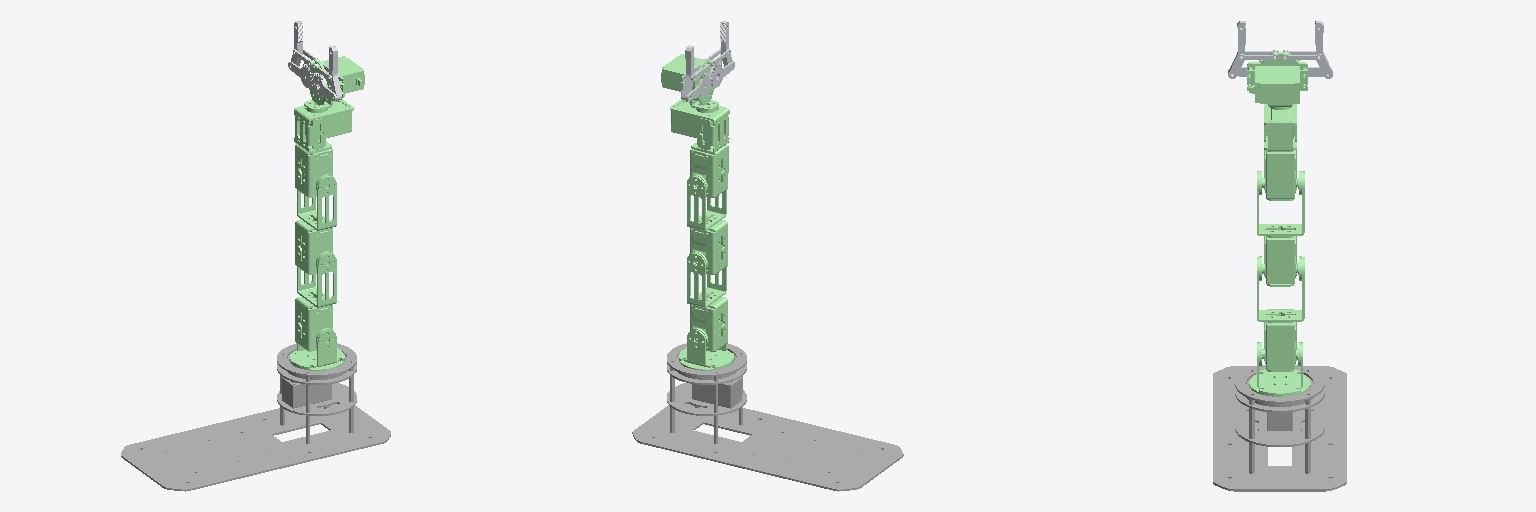
URDF robot description (Dofbot_Arm):
<?xml version="1.0" encoding="utf-8"?>
<!-- This URDF was automatically created by SolidWorks to URDF Exporter! Originally created by [author] ([email redacted]) 
     Commit Version: 1.6.0-1-g15f4949  Build Version: 1.6.7594.29634
     For more information, please see http://wiki.ros.org/sw_urdf_exporter -->
<robot
  name="Dofbot_Arm">
  <link
    name="base_link">
    <inertial>
      <origin
        xyz="0.03495 -1.669E-06 0.026249"
        rpy="0 0 0" />
      <mass
        value="0.30824" />
      <inertia
        ixx="0.00024694"
        ixy="-2.4709E-10"
        ixz="2.446E-09"
        iyy="0.00093961"
        iyz="-1.1178E-09"
        izz="0.0011789" />
    </inertial>
    <visual>
      <origin
        xyz="0 0 0"
        rpy="0 0 0" />
      <geometry>
        <mesh
          filename="package://Dofbot_Arm/meshes/base_link.STL" />
      </geometry>
      <material
        name="">
        <color
          rgba="0.75294 0.75294 0.75294 1" />
      </material>
    </visual>
    <collision>
      <origin
        xyz="0 0 0"
        rpy="0 0 0" />
      <geometry>
        <mesh
          filename="package://Dofbot_Arm/meshes/base_link.STL" />
      </geometry>
    </collision>
  </link>
  <link
    name="waist_link">
    <inertial>
      <origin
        xyz="4.0766E-08 -9.5693E-05 0.079382"
        rpy="0 0 0" />
      <mass
        value="0.051689" />
      <inertia
        ixx="1.1117E-05"
        ixy="-1.7636E-21"
        ixz="2.599E-21"
        iyy="9.658E-06"
        iyz="-1.3982E-20"
        izz="1.6341E-05" />
    </inertial>
    <visual>
      <origin
        xyz="0 0 0"
        rpy="0 0 0" />
      <geometry>
        <mesh
          filename="package://Dofbot_Arm/meshes/waist_link.STL" />
      </geometry>
      <material
        name="">
        <color
          rgba="0.75294 1 0.75294 1" />
      </material>
    </visual>
    <collision>
      <origin
        xyz="0 0 0"
        rpy="0 0 0" />
      <geometry>
        <mesh
          filename="package://Dofbot_Arm/meshes/waist_link.STL" />
      </geometry>
    </collision>
  </link>
  <joint
    name="base_waist_joint"
    type="revolute">
    <origin
      xyz="0.07217 0 0"
      rpy="0 0 0" />
    <parent
      link="base_link" />
    <child
      link="waist_link" />
    <axis
      xyz="0 0 1" />
    <limit
      lower="-2.618"
      upper="2.618"
      effort="1.5"
      velocity="3.1416" />
  </joint>
  <link
    name="shoulder_link">
    <inertial>
      <origin
        xyz="-0.0026577 -0.0001513 0.036757"
        rpy="0 0 0" />
      <mass
        value="0.039014" />
      <inertia
        ixx="1.684E-05"
        ixy="1.1195E-09"
        ixz="1.3557E-10"
        iyy="1.3033E-05"
        iyz="2.4457E-09"
        izz="7.6638E-06" />
    </inertial>
    <visual>
      <origin
        xyz="0 0 0"
        rpy="0 0 0" />
      <geometry>
        <mesh
          filename="package://Dofbot_Arm/meshes/shoulder_link.STL" />
      </geometry>
      <material
        name="">
        <color
          rgba="0.75294 1 0.75294 1" />
      </material>
    </visual>
    <collision>
      <origin
        xyz="0 0 0"
        rpy="0 0 0" />
      <geometry>
        <mesh
          filename="package://Dofbot_Arm/meshes/shoulder_link.STL" />
      </geometry>
    </collision>
  </link>
  <joint
    name="waist_shoulder_joint"
    type="revolute">
    <origin
      xyz="-0.0017793 0.00049752 0.10498"
      rpy="0 0 0" />
    <parent
      link="waist_link" />
    <child
      link="shoulder_link" />
    <axis
      xyz="0 1 0" />
    <limit
      lower="-2.618"
      upper="2.618"
      effort="1.5"
      velocity="3.1416" />
  </joint>
  <link
    name="arm_link">
    <inertial>
      <origin
        xyz="-0.0029633 -0.0001513 0.036757"
        rpy="0 0 0" />
      <mass
        value="0.039014" />
      <inertia
        ixx="1.684E-05"
        ixy="1.1195E-09"
        ixz="1.3557E-10"
        iyy="1.3033E-05"
        iyz="2.4457E-09"
        izz="7.6638E-06" />
    </inertial>
    <visual>
      <origin
        xyz="0 0 0"
        rpy="0 0 0" />
      <geometry>
        <mesh
          filename="package://Dofbot_Arm/meshes/arm_link.STL" />
      </geometry>
      <material
        name="">
        <color
          rgba="0.75294 1 0.75294 1" />
      </material>
    </visual>
    <collision>
      <origin
        xyz="0 0 0"
        rpy="0 0 0" />
      <geometry>
        <mesh
          filename="package://Dofbot_Arm/meshes/arm_link.STL" />
      </geometry>
    </collision>
  </link>
  <joint
    name="shoulder_arm_joint"
    type="revolute">
    <origin
      xyz="0.00030564 0 0.084119"
      rpy="0 0 0" />
    <parent
      link="shoulder_link" />
    <child
      link="arm_link" />
    <axis
      xyz="0 1 0" />
    <limit
      lower="-2.618"
      upper="2.618"
      effort="1.5"
      velocity="3.1416" />
  </joint>
  <link
    name="wrist_link">
    <inertial>
      <origin
        xyz="-0.003355 -1.0383E-05 0.035742"
        rpy="0 0 0" />
      <mass
        value="0.04388" />
      <inertia
        ixx="1.4107E-05"
        ixy="1.0323E-09"
        ixz="-9.7935E-07"
        iyy="1.5344E-05"
        iyz="3.5666E-09"
        izz="9.3532E-06" />
    </inertial>
    <visual>
      <origin
        xyz="0 0 0"
        rpy="0 0 0" />
      <geometry>
        <mesh
          filename="package://Dofbot_Arm/meshes/wrist_link.STL" />
      </geometry>
      <material
        name="">
        <color
          rgba="0.75294 1 0.75294 1" />
      </material>
    </visual>
    <collision>
      <origin
        xyz="0 0 0"
        rpy="0 0 0" />
      <geometry>
        <mesh
          filename="package://Dofbot_Arm/meshes/wrist_link.STL" />
      </geometry>
    </collision>
  </link>
  <joint
    name="arm_wrist_joint"
    type="revolute">
    <origin
      xyz="0.00030564 0 0.084119"
      rpy="0 0 0" />
    <parent
      link="arm_link" />
    <child
      link="wrist_link" />
    <axis
      xyz="0 1 0" />
    <limit
      lower="-2.618"
      upper="2.618"
      effort="1.5"
      velocity="3.1416" />
  </joint>
  <link
    name="hand_link">
    <inertial>
      <origin
        xyz="0.013681 -0.0021076 0.025809"
        rpy="0 0 0" />
      <mass
        value="0.05608" />
      <inertia
        ixx="9.7798E-06"
        ixy="-1.9352E-08"
        ixz="-6.004E-08"
        iyy="3.7845E-06"
        iyz="3.1265E-08"
        izz="8.1837E-06" />
    </inertial>
    <visual>
      <origin
        xyz="0 0 0"
        rpy="0 0 0" />
      <geometry>
        <mesh
          filename="package://Dofbot_Arm/meshes/hand_link.STL" />
      </geometry>
      <material
        name="">
        <color
          rgba="0.75294 1 0.75294 1" />
      </material>
    </visual>
    <collision>
      <origin
        xyz="0 0 0"
        rpy="0 0 0" />
      <geometry>
        <mesh
          filename="package://Dofbot_Arm/meshes/hand_link.STL" />
      </geometry>
    </collision>
  </link>
  <joint
    name="wrist_hand_joint"
    type="revolute">
    <origin
      xyz="0.0016634 -4.333E-05 0.078049"
      rpy="0 0 0" />
    <parent
      link="wrist_link" />
    <child
      link="hand_link" />
    <axis
      xyz="0.0020642 0 1" />
    <limit
      lower="-2.618"
      upper="2.618"
      effort="1.5"
      velocity="3.1416" />
  </joint>
  <link
    name="end_efector">
    <inertial>
      <origin
        xyz="-0.0023697 -0.0012951 -0.042439"
        rpy="0 0 0" />
      <mass
        value="0.024858" />
      <inertia
        ixx="4.761E-06"
        ixy="1.6573E-11"
        ixz="6.7243E-09"
        iyy="3.3465E-06"
        iyz="-8.0284E-09"
        izz="1.5035E-06" />
    </inertial>
    <visual>
      <origin
        xyz="0 0 0"
        rpy="0 0 0" />
      <geometry>
        <mesh
          filename="package://Dofbot_Arm/meshes/end_efector.STL" />
      </geometry>
      <material
        name="">
        <color
          rgba="0.89804 0.91765 0.92941 1" />
      </material>
    </visual>
    <collision>
      <origin
        xyz="0 0 0"
        rpy="0 0 0" />
      <geometry>
        <mesh
          filename="package://Dofbot_Arm/meshes/end_efector.STL" />
      </geometry>
    </collision>
  </link>
  <joint
    name="EF"
    type="fixed">
    <origin
      xyz="-0.00017603 0 0.085277"
      rpy="0 0 0" />
    <parent
      link="hand_link" />
    <child
      link="end_efector" />
    <axis
      xyz="0 0 0" />
  </joint>
</robot>

--- Facts derived from the render (not from the file) ---
The picture shows the robot from 3 angles, left to right: view 1: azimuth 30°, elevation 25°; view 2: azimuth 150°, elevation 25°; view 3: azimuth 270°, elevation 25°; orthographic projection.
Robot: Dofbot_Arm — 7 links, 6 joints (5 revolute, 1 fixed); root link base_link; default pose: every joint at zero.
Visible links, largest first — view 1: base_link, wrist_link, shoulder_link, arm_link, end_efector, waist_link, hand_link; view 2: base_link, wrist_link, arm_link, shoulder_link, end_efector, waist_link, hand_link; view 3: base_link, wrist_link, arm_link, shoulder_link, hand_link, end_efector, waist_link.
Boxes of the visible links, bbox=[...] form: base_link: bbox=[121, 343, 390, 491]; wrist_link: bbox=[294, 99, 353, 197]; shoulder_link: bbox=[295, 251, 336, 351]; arm_link: bbox=[295, 174, 336, 274]; end_efector: bbox=[288, 21, 341, 100]; waist_link: bbox=[289, 328, 344, 370]; hand_link: bbox=[304, 56, 364, 112]; base_link: bbox=[632, 343, 903, 491]; wrist_link: bbox=[670, 99, 729, 197]; arm_link: bbox=[687, 174, 727, 274]; shoulder_link: bbox=[687, 251, 727, 351]; end_efector: bbox=[681, 21, 734, 101]; waist_link: bbox=[679, 328, 734, 370]; hand_link: bbox=[661, 54, 721, 112]; base_link: bbox=[1213, 365, 1346, 491]; wrist_link: bbox=[1264, 104, 1297, 200]; arm_link: bbox=[1257, 171, 1304, 286]; shoulder_link: bbox=[1257, 256, 1304, 371]; hand_link: bbox=[1247, 51, 1307, 109]; end_efector: bbox=[1228, 20, 1332, 78]; waist_link: bbox=[1249, 342, 1310, 396].
Bounding box of the posed robot: 0.26 × 0.12 × 0.4332 m (x, y, z).
Meshes: 7 distinct files referenced, 7 mesh visuals loaded (7 binary STL).